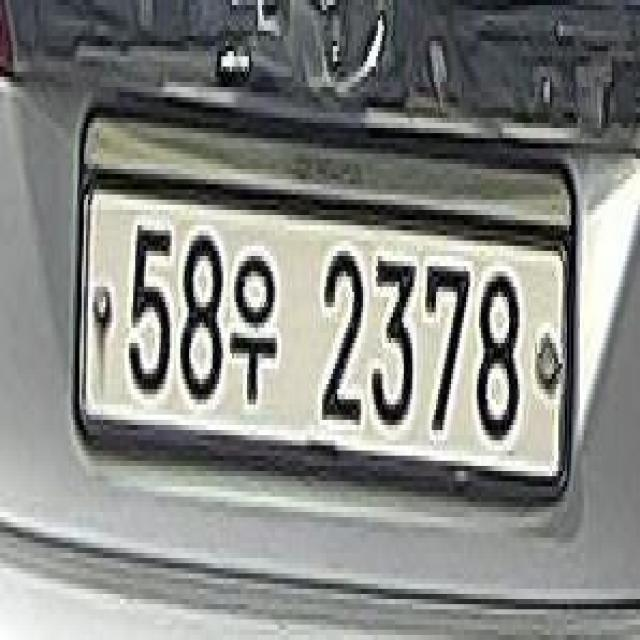2: (316, 239, 365, 433)
3: (368, 242, 418, 430)
5: (124, 212, 172, 397)
7: (420, 250, 470, 438)
8: (474, 266, 522, 452), (178, 218, 225, 406)
license_plate: (71, 91, 591, 533)
u: (229, 220, 283, 410)
